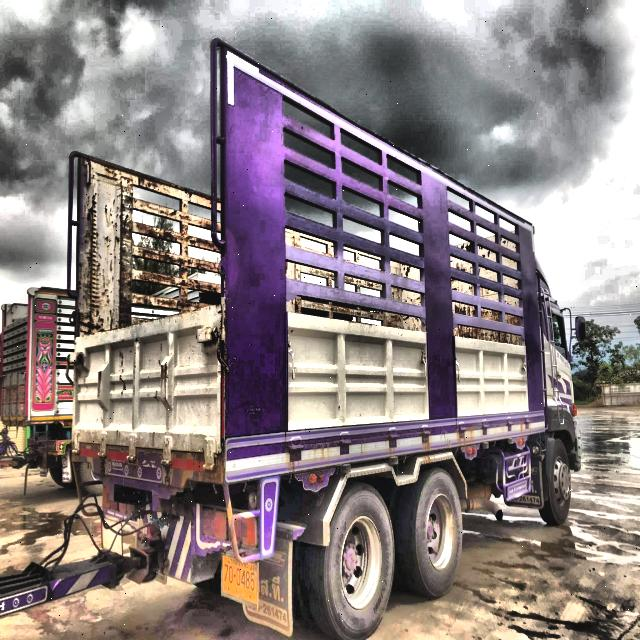trailer: (0, 36, 582, 639)
